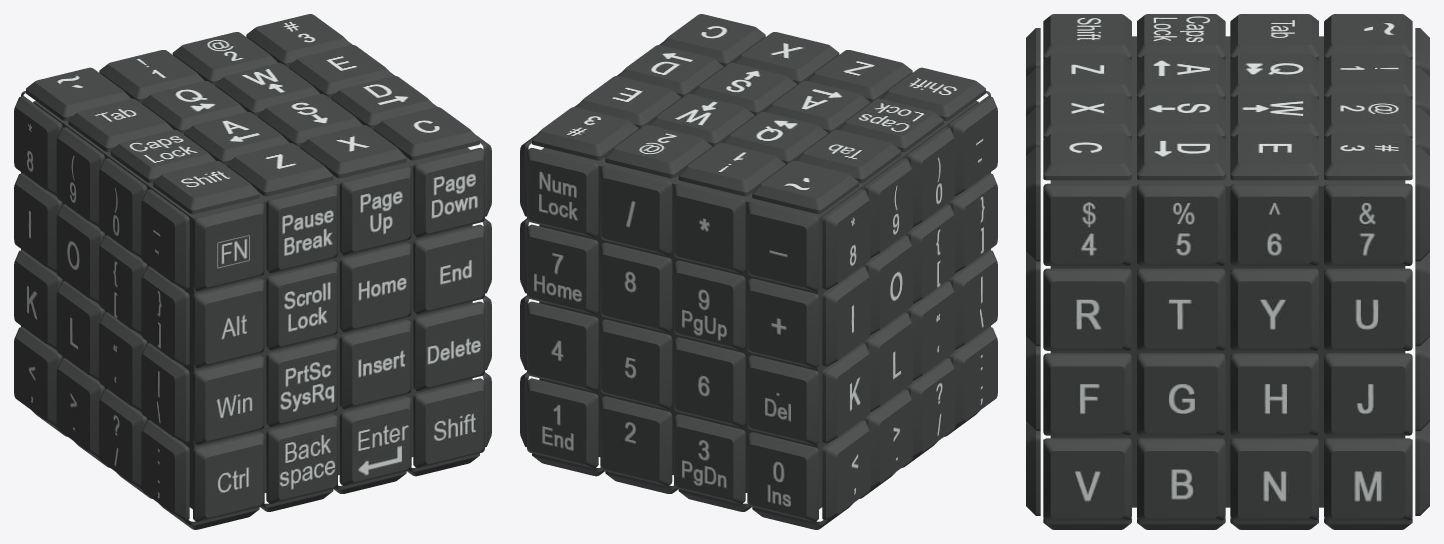
The model's file is L_5_rubicks.glb.
3 views of the same model, side by side, from view 1: azimuth 30°, elevation 25°; view 2: azimuth 150°, elevation 25°; view 3: azimuth 270°, elevation 25° (orthographic). The views are drawn at different scales.
Visible parts, largest first — view 1: L_5_rubicks; view 2: L_5_rubicks; view 3: L_5_rubicks.
Boxes of the visible parts, x1,y1,x2,y2 form: L_5_rubicks: (14,14,491,529); L_5_rubicks: (520,14,997,529); L_5_rubicks: (1026,14,1429,529).
Bounding box in the file's own units: 3.25 × 3.25 × 3.25.
Materials: 1 (1 with a texture image).
